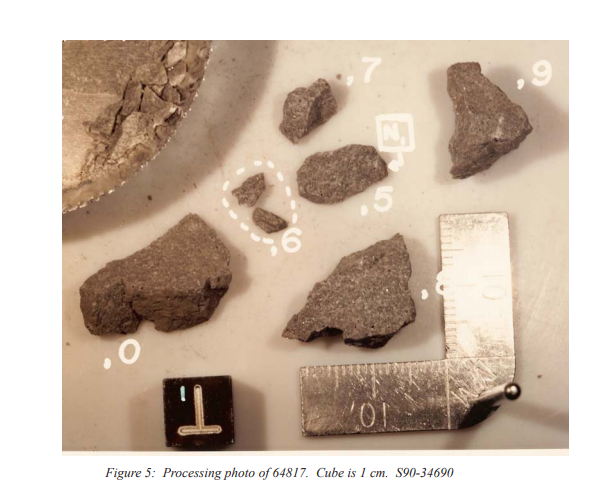Basalt: (102, 200, 245, 330), (271, 83, 381, 230), (270, 260, 435, 347), (445, 72, 530, 202)
